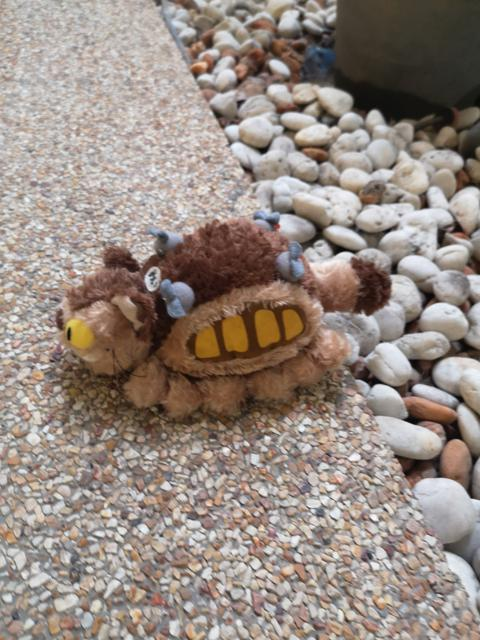nekobus: (51, 214, 393, 425)
